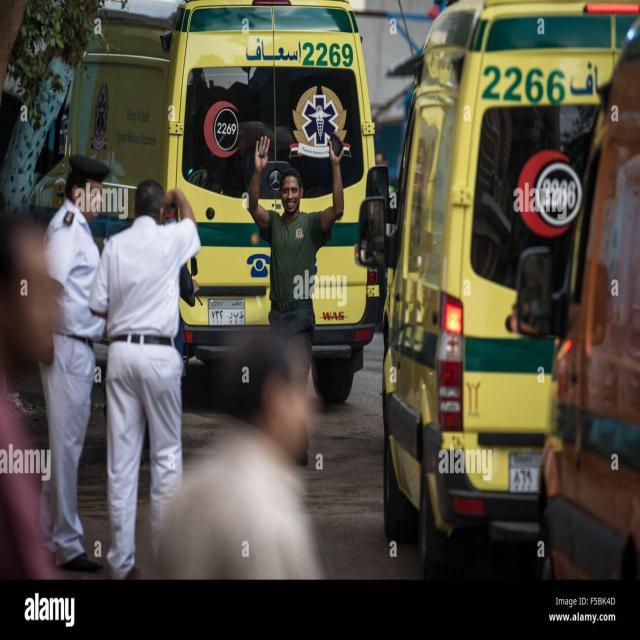Ambulance: (395, 0, 638, 577), (21, 0, 382, 299)
person: (87, 179, 201, 579), (154, 330, 326, 580), (246, 129, 344, 466), (38, 154, 111, 572), (0, 212, 60, 579)
